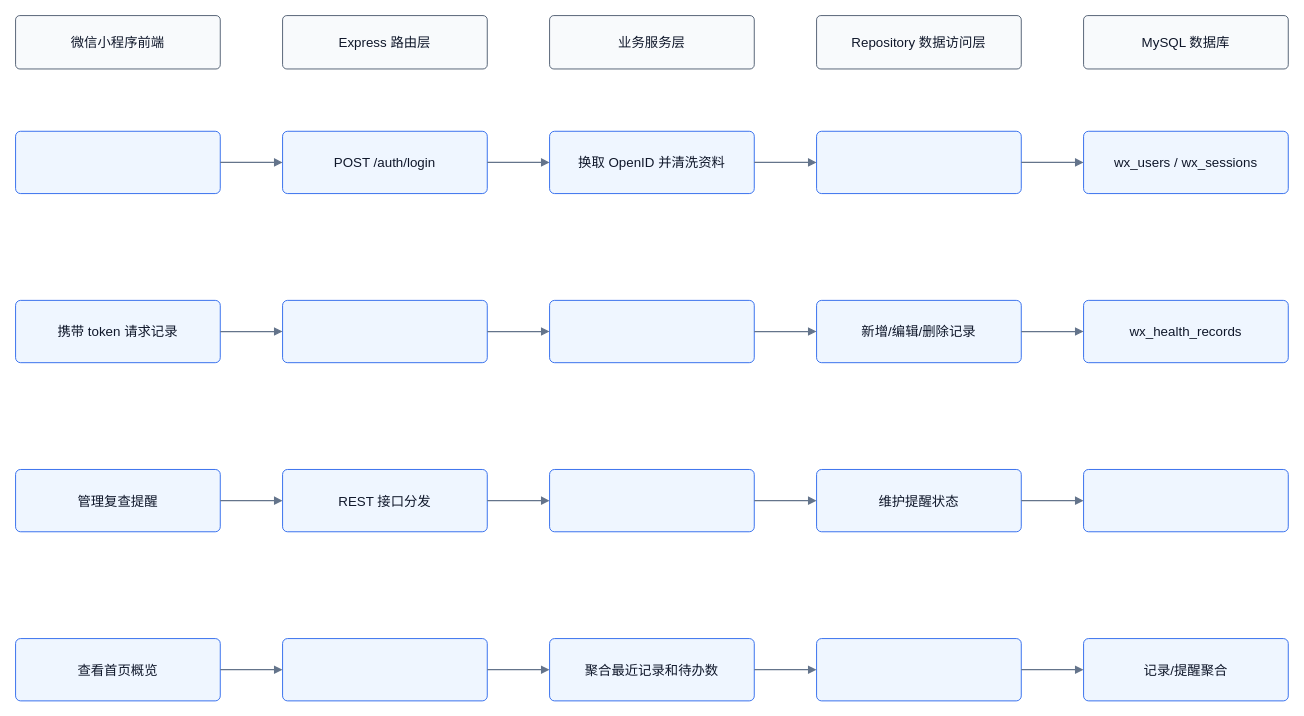
Image size: 1304x716. Some labels were removed from this diagram. The box of each missing label's shape, as (x1, y1, x2, y2) in pixels:
GET /home: (282, 638, 487, 701)
wx.login 获取 code: (15, 130, 220, 194)
wx_reminders: (1083, 469, 1288, 532)
写入用户与会话: (816, 130, 1021, 194)
校验日期与合规文本: (549, 299, 754, 363)
统计查询: (816, 638, 1021, 701)
规范提醒字段: (549, 469, 754, 532)
鉴权解析用户: (282, 299, 487, 363)
